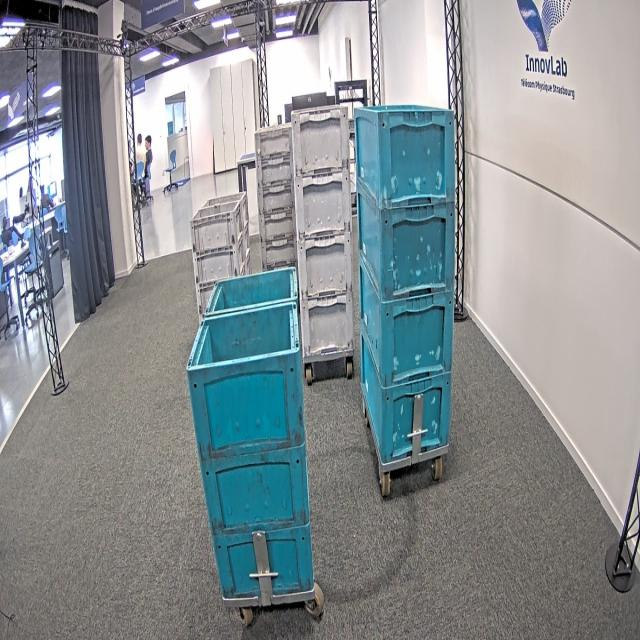Box3G: (254, 154, 296, 188), (254, 124, 294, 158), (257, 181, 296, 214), (258, 209, 297, 241), (261, 234, 298, 266)
Box4G: (292, 168, 356, 241), (290, 104, 352, 179), (298, 232, 360, 302), (300, 290, 362, 356)
Box8G: (192, 196, 250, 251), (190, 246, 244, 292), (205, 192, 250, 228)
BoxB4: (356, 176, 457, 302), (360, 255, 456, 387), (353, 102, 458, 212), (368, 366, 453, 464)
BoxB8: (187, 306, 306, 462), (199, 440, 312, 541), (212, 521, 318, 601), (206, 268, 298, 307)
